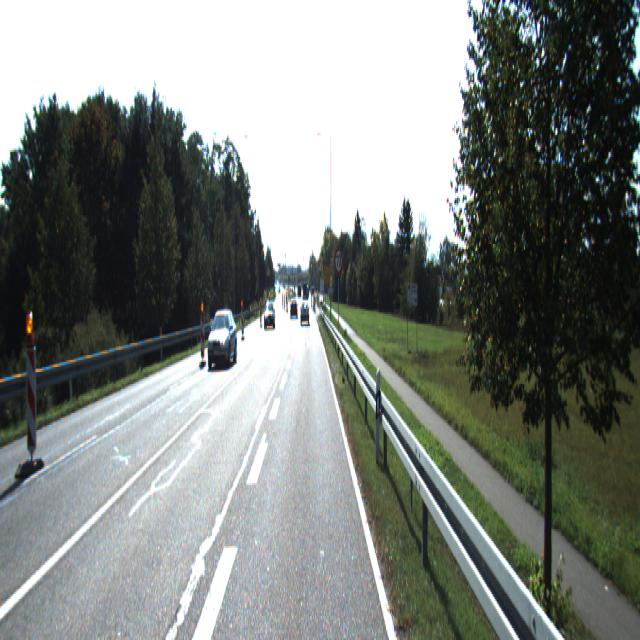Car: (205, 306, 238, 372), (300, 301, 310, 325)
